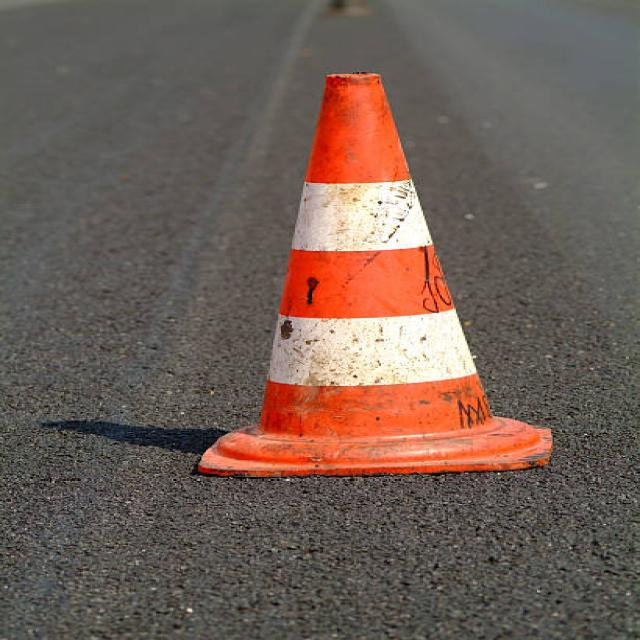Traffic Cone: (146, 44, 585, 504)
